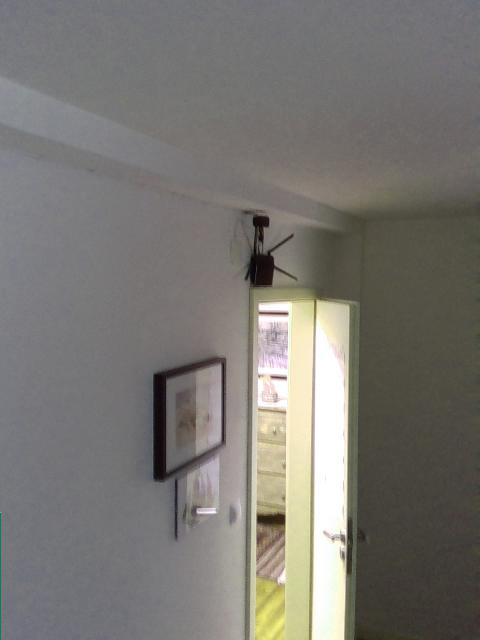semi_door: (242, 284, 360, 639)
